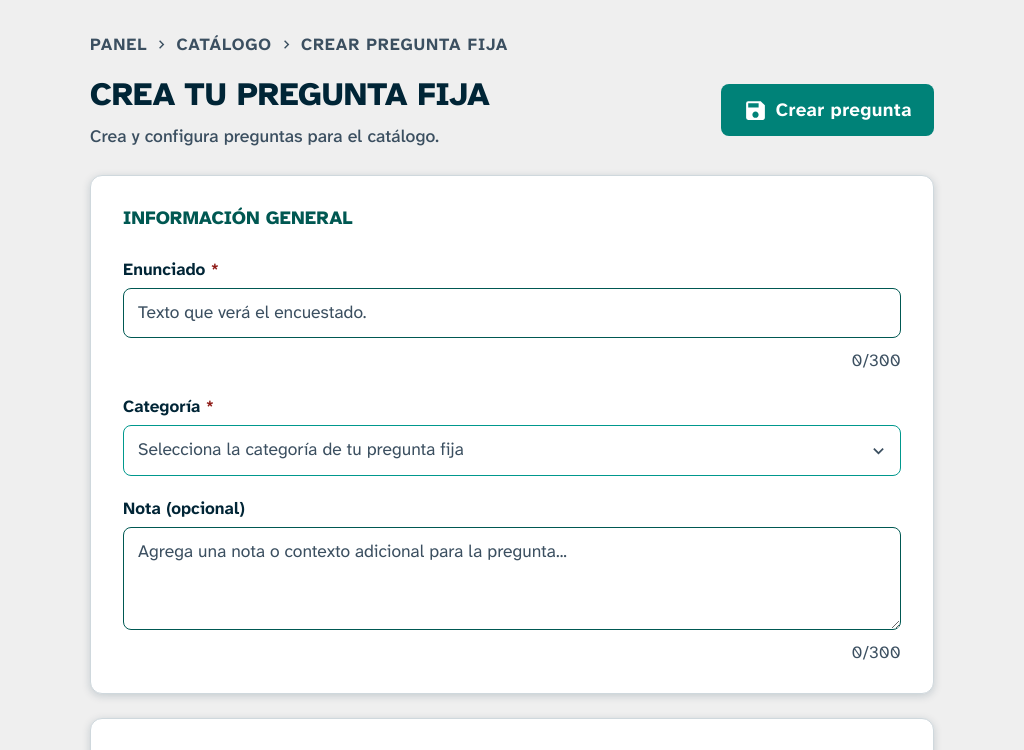
Test: información general de los elementos del catálogo › sitúa la categoría entre los campos en pregunta fija
expect the text with class "category-select-required" reads "*": met, box [206,395,214,417]
What coordinates should you click on to do the following:
click the button named "Categoría (obligatoria)"
I would click on:
 (301, 450)
Its box is [123,425,901,476].
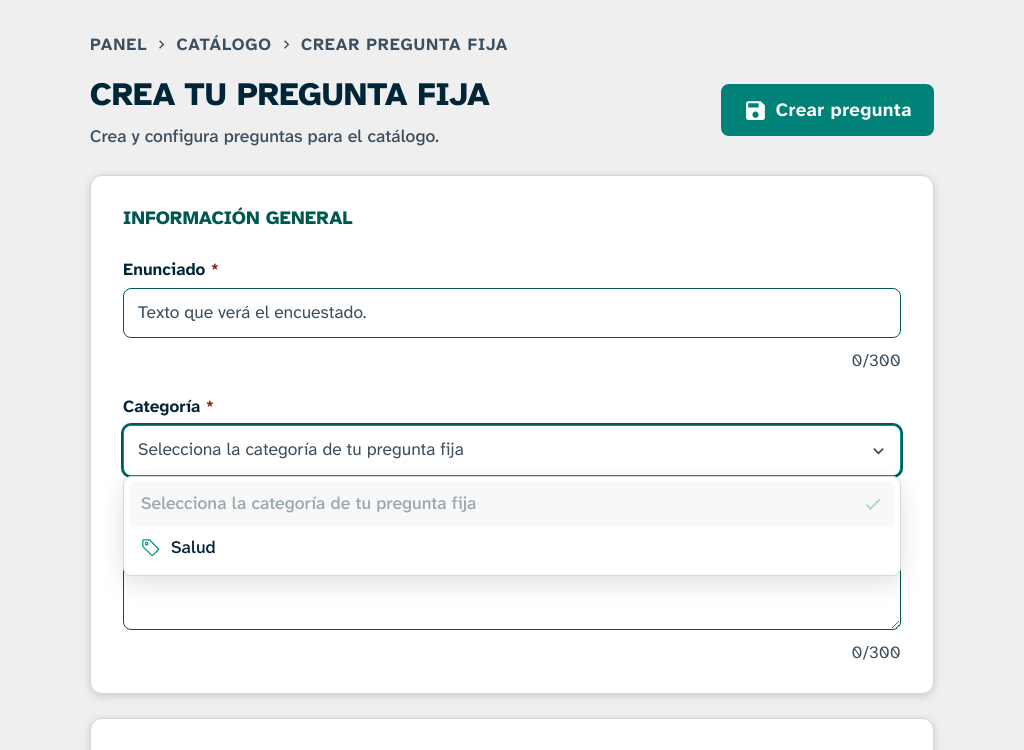
What coordinates should you click on to do the following:
click the button "Salud"
I would click on:
 (193, 547)
Its box is [129,526,895,570].
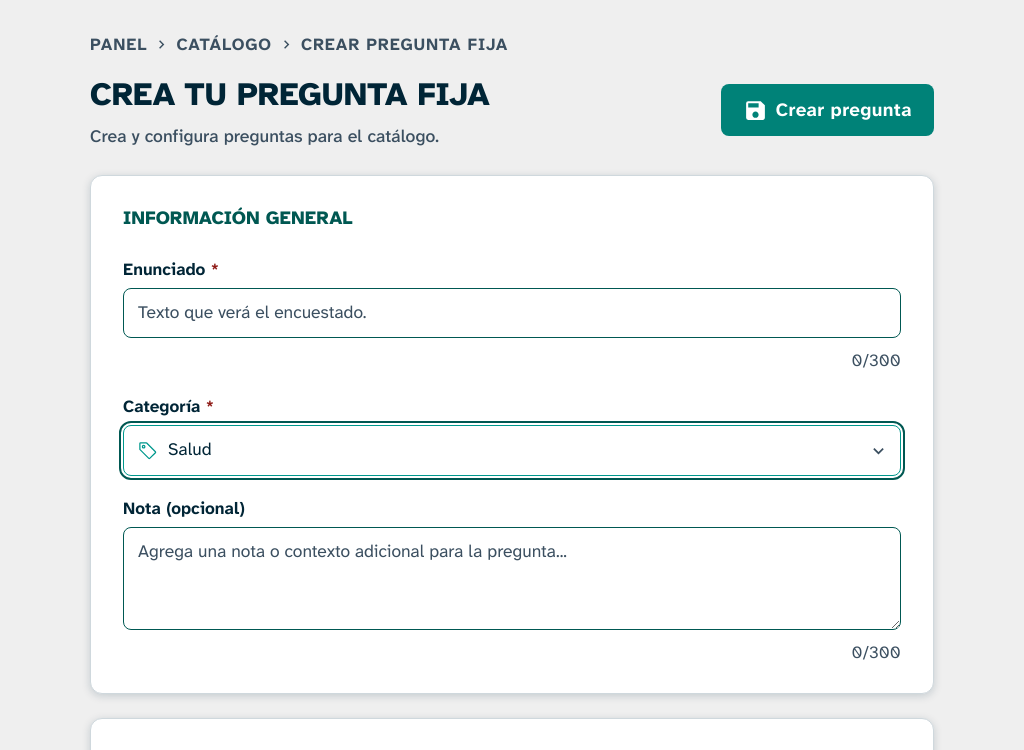
expect the button named "Categoría (obligatoria)" reads "Salud": met, box [123,425,901,476]
